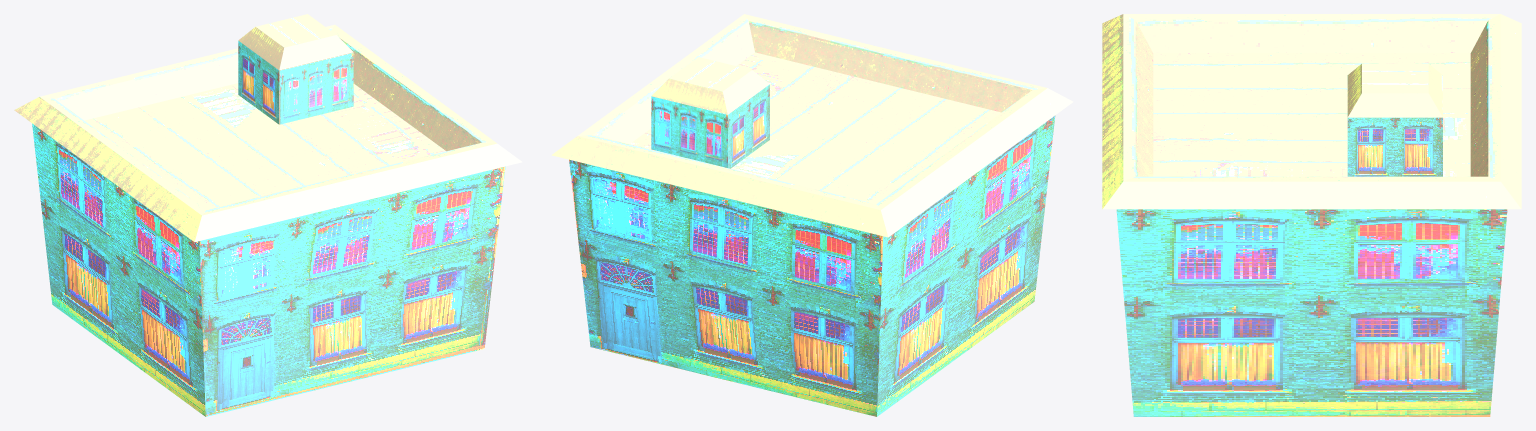
The model's file is castle_outbuilding2.glb.
3 views of the same model, side by side, from view 1: azimuth 30°, elevation 25°; view 2: azimuth 150°, elevation 25°; view 3: azimuth 270°, elevation 25° (orthographic). The views are drawn at different scales.
Parts seen in each view (by area): view 1: castle_outbuilding2; view 2: castle_outbuilding2; view 3: castle_outbuilding2.
Part boxes in pixels (<box>): castle_outbuilding2: <box>14,14,522,416</box>; castle_outbuilding2: <box>551,14,1073,416</box>; castle_outbuilding2: <box>1102,14,1521,416</box>.
Size of the model in its own units: 9.88 by 7.32 by 9.41.
